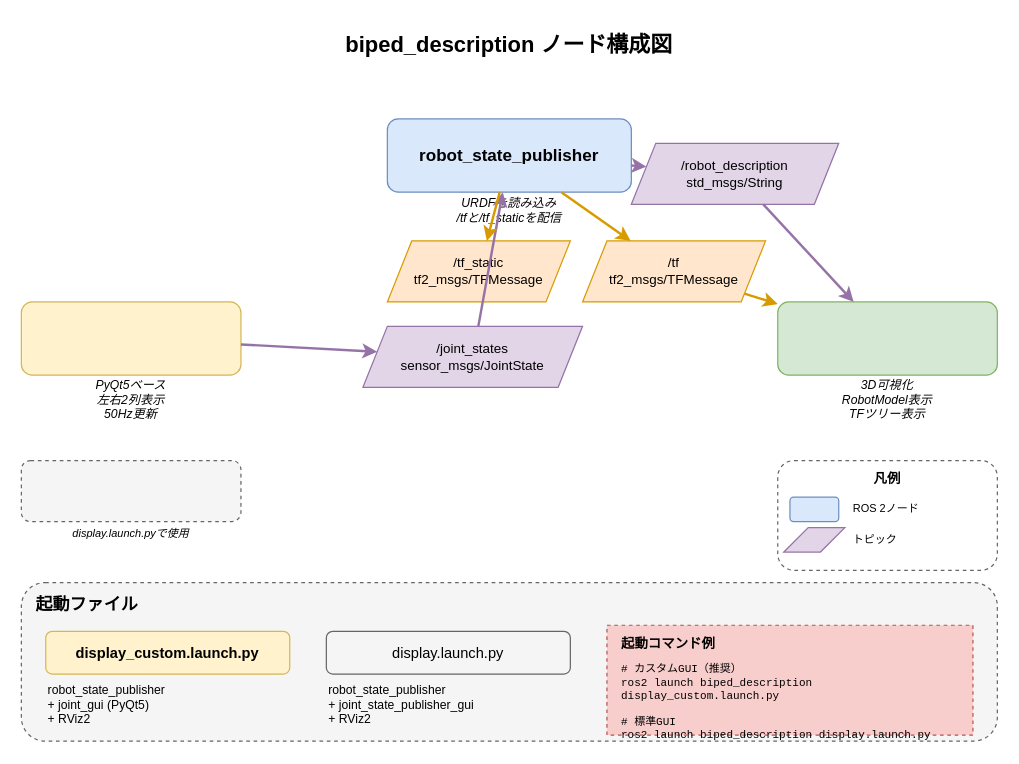
This 1019x764 diagram has some shape labels left out. The centre of each missing label's shape, as x and y in pixels:
"joint_gui (カスタムGUI)" belongs at point (130, 338).
"joint_state_publisher_gui (標準GUI)" belongs at point (130, 490).
"RViz2" belongs at point (887, 338).
